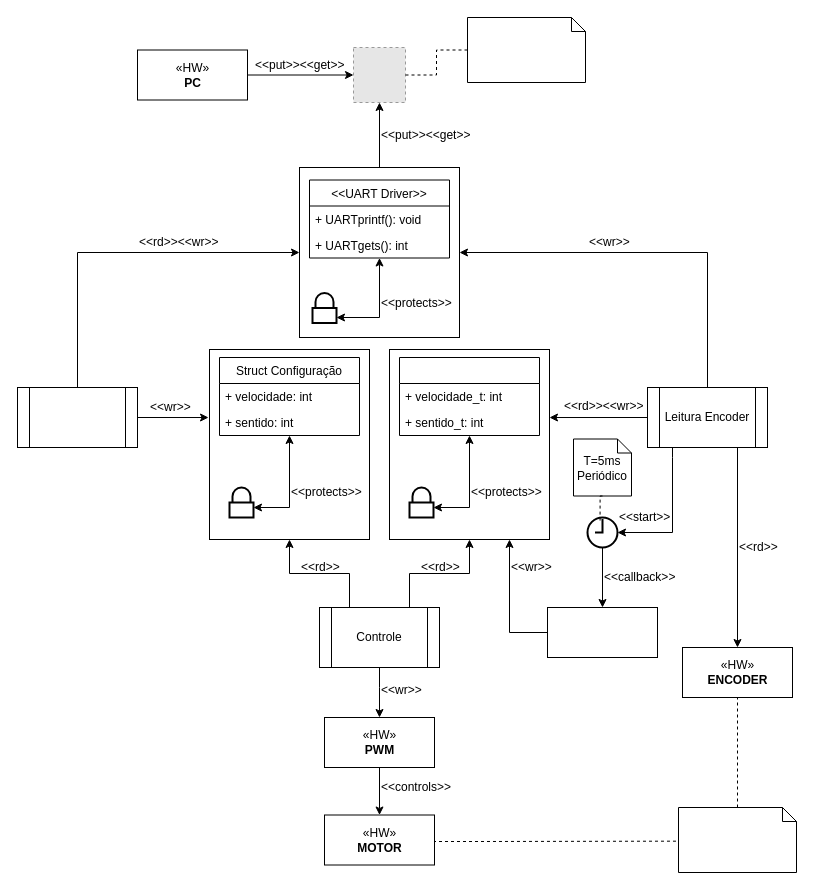
The diagram is 814 pixels wide and 890 high, and some of its shapes have lost their labels. Grey dashed boxes stand in for pictures. The shapes that lost their labels are listed below. From the top down, each one's box as (x1, y1, x2, y2) in pixels, then its label:
(466, 16, 586, 82): Buffers RX e TX da UART
(398, 356, 540, 436): Struct Medição
(16, 386, 138, 448): Setpoint
(546, 606, 658, 658): «function» CALLBACK
(678, 806, 796, 872): Conectado ao driver/kit do motor
